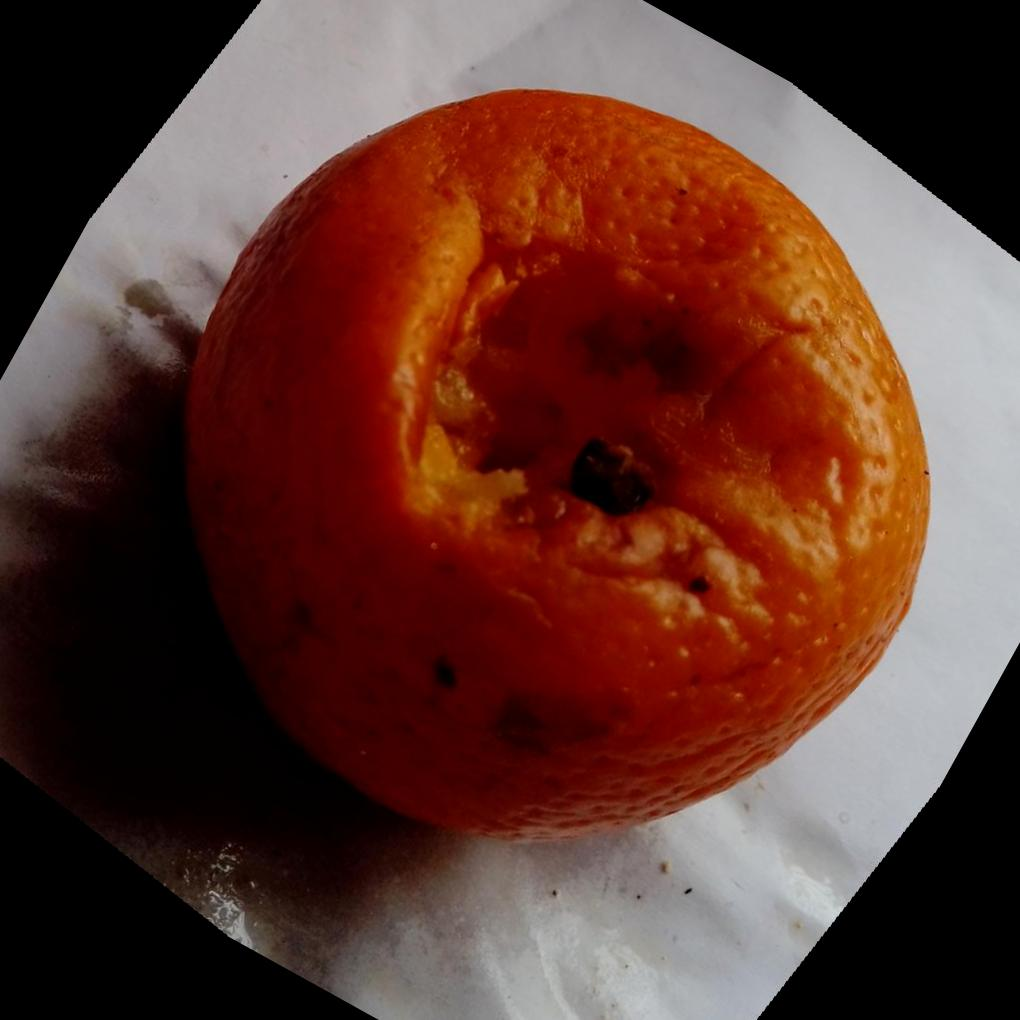FreshOrange: (172, 83, 931, 842)
